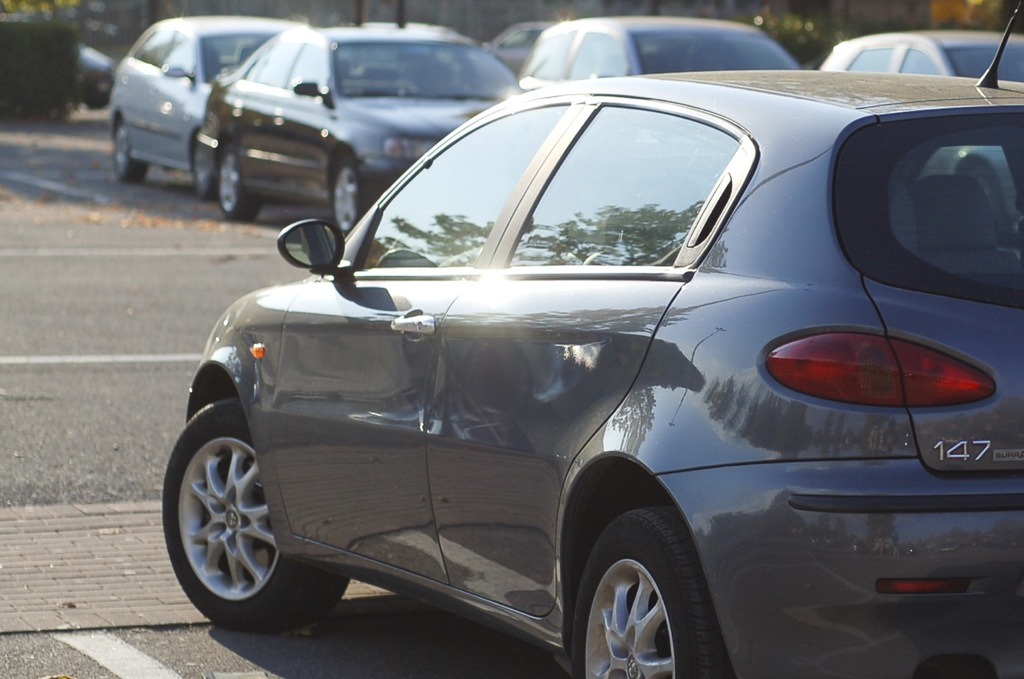mobil: (113, 60, 1024, 679)
